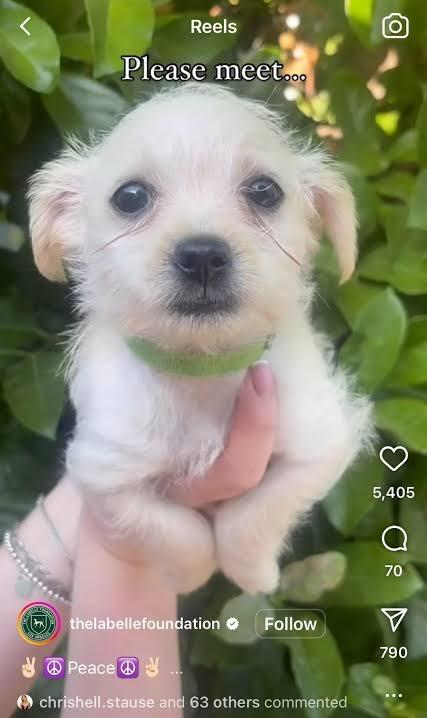puppy-dog: (18, 86, 374, 602)
